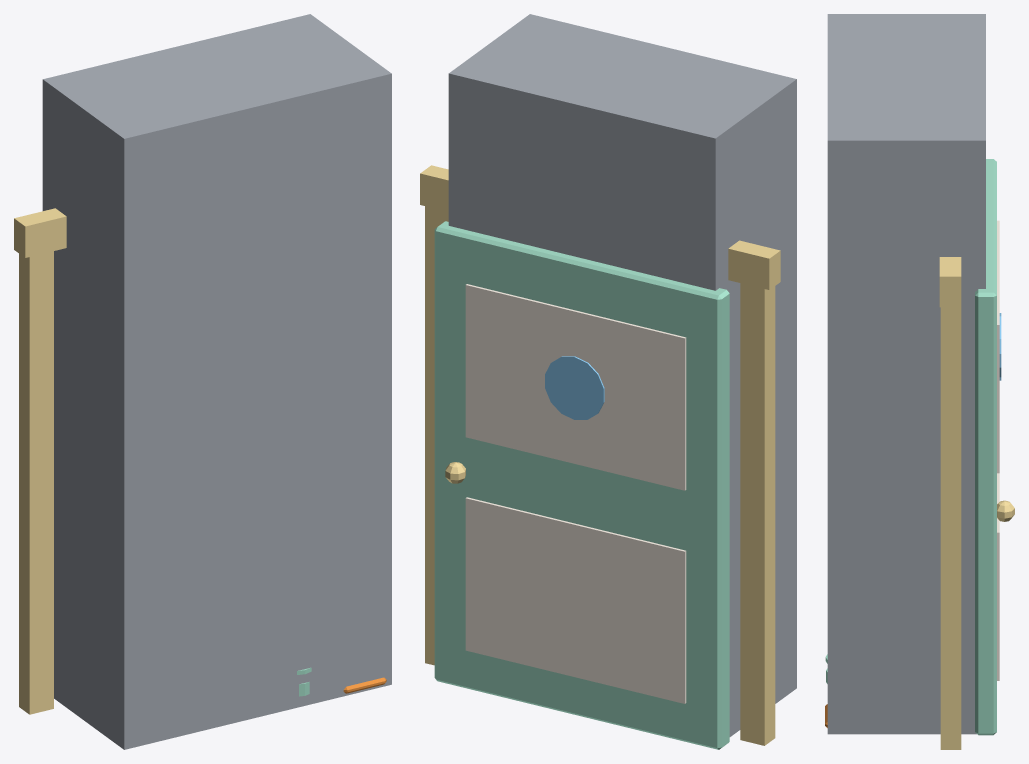
Rendered from CleanACat_Area_BackDoorBuilding.fbx.
3 renders of one model, left to right at view 1: azimuth 30°, elevation 25°; view 2: azimuth 150°, elevation 25°; view 3: azimuth 270°, elevation 25°, orthographic. The views are drawn at different scales.
Parts seen in each view (by area): view 1: CleanACat_Area_BackDoorBuilding_Barrier, CleanACat_Area_BackDoorBuilding; view 2: CleanACat_Area_BackDoorBuilding, CleanACat_Area_BackDoorBuilding_Barrier; view 3: CleanACat_Area_BackDoorBuilding_Barrier, CleanACat_Area_BackDoorBuilding.
Part boxes in pixels (<box>): CleanACat_Area_BackDoorBuilding_Barrier: <box>42,14,391,749</box>; CleanACat_Area_BackDoorBuilding: <box>14,208,66,714</box>; CleanACat_Area_BackDoorBuilding: <box>420,165,780,749</box>; CleanACat_Area_BackDoorBuilding_Barrier: <box>448,14,796,736</box>; CleanACat_Area_BackDoorBuilding_Barrier: <box>827,14,985,734</box>; CleanACat_Area_BackDoorBuilding: <box>939,159,1014,749</box>.
Bounding box in the file's own units: 7.2 × 12 × 3.48.
Materials: 1 (1 with a texture image).
